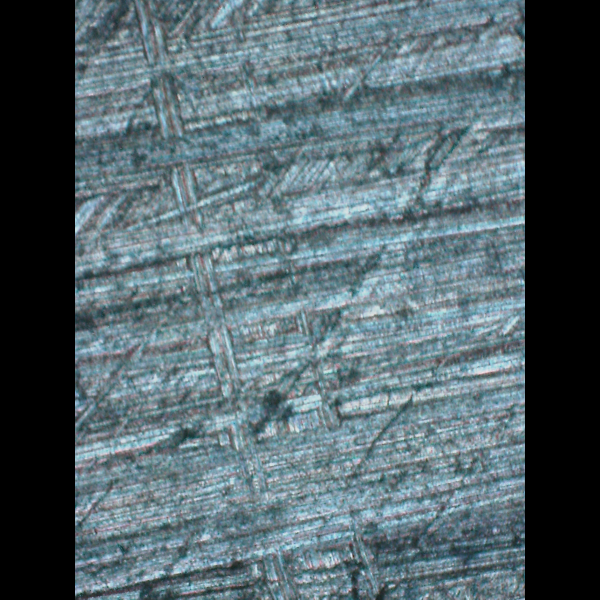d: (120, 4, 392, 600)
